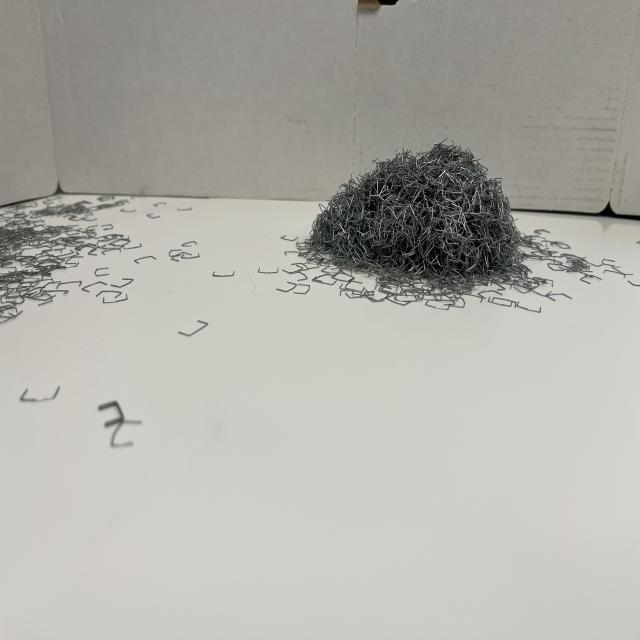staples: (305, 138, 529, 284)
